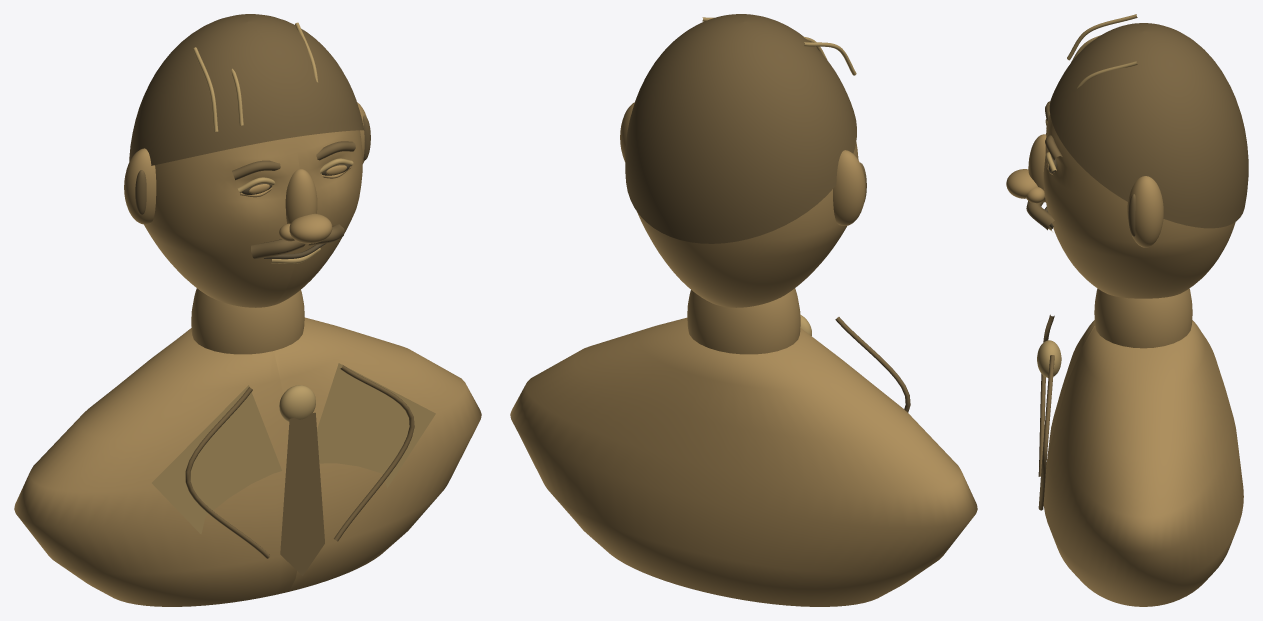
Rendered from sarney.glb.
3 renders of one model, left to right at view 1: azimuth 30°, elevation 25°; view 2: azimuth 150°, elevation 25°; view 3: azimuth 270°, elevation 25°, orthographic. The views are drawn at different scales.
Visible parts, largest first — view 1: sarney; view 2: sarney; view 3: sarney.
Boxes of the visible parts, bbox=[...] form: sarney: bbox=[14, 14, 481, 606]; sarney: bbox=[510, 14, 977, 606]; sarney: bbox=[1006, 14, 1248, 606].
Size of the model in its own units: 1.22 by 1.38 by 0.5917.
